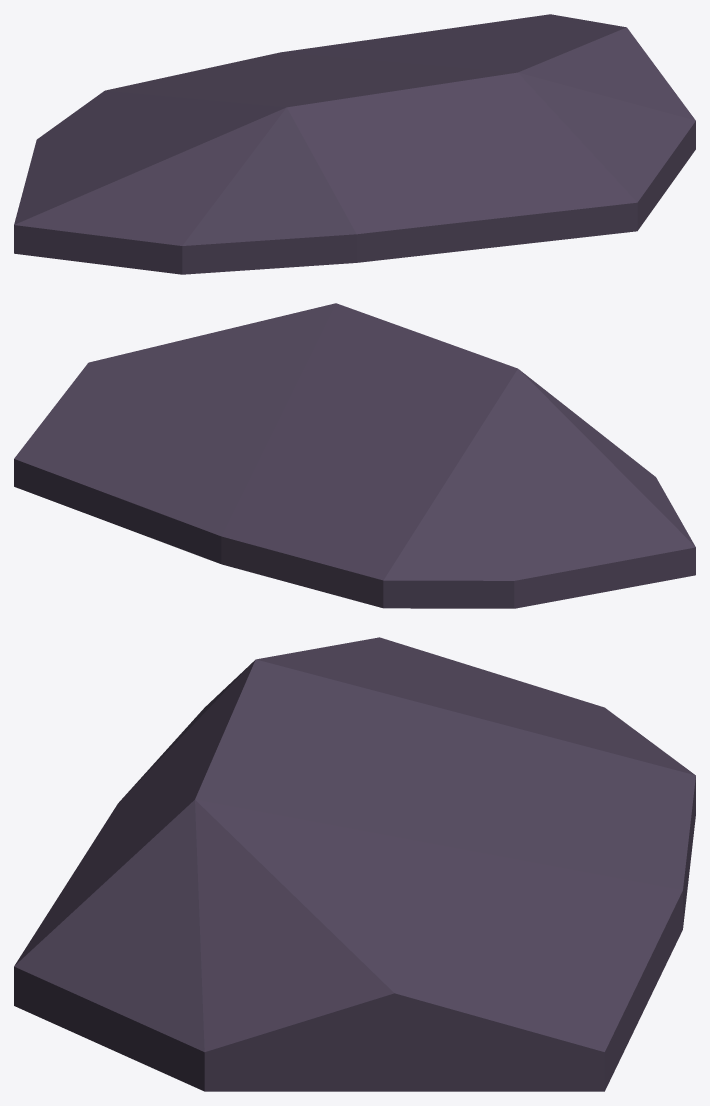
Rendered from SM_rock_small_06.fbx.
3 views of the same model, one above another, from view 1: azimuth 30°, elevation 25°; view 2: azimuth 150°, elevation 25°; view 3: azimuth 270°, elevation 25° (orthographic). The views are drawn at different scales.
Parts seen in each view (by area): view 1: rock_small_06; view 2: rock_small_06; view 3: rock_small_06.
Part boxes in pixels (box(x1,y1,x2,y2)): rock_small_06: box(14, 14, 695, 274); rock_small_06: box(14, 303, 695, 608); rock_small_06: box(14, 637, 695, 1091).
Size of the model in its own units: 137 by 26.14 by 94.98.
